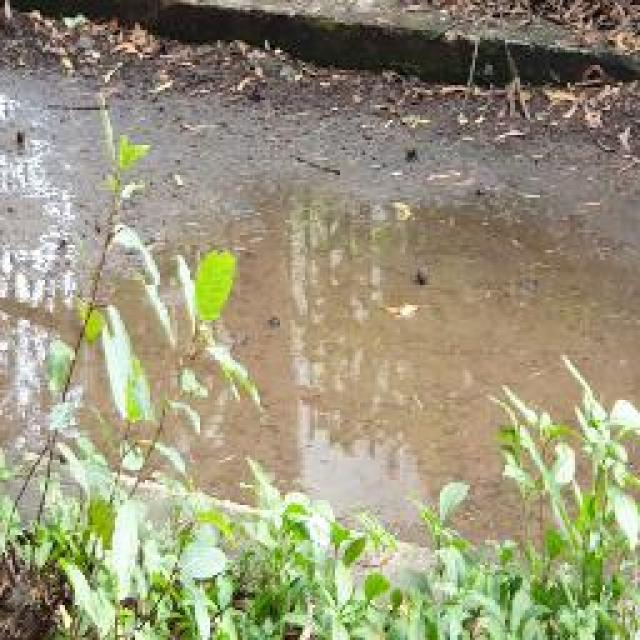puddle: (123, 203, 640, 557)
